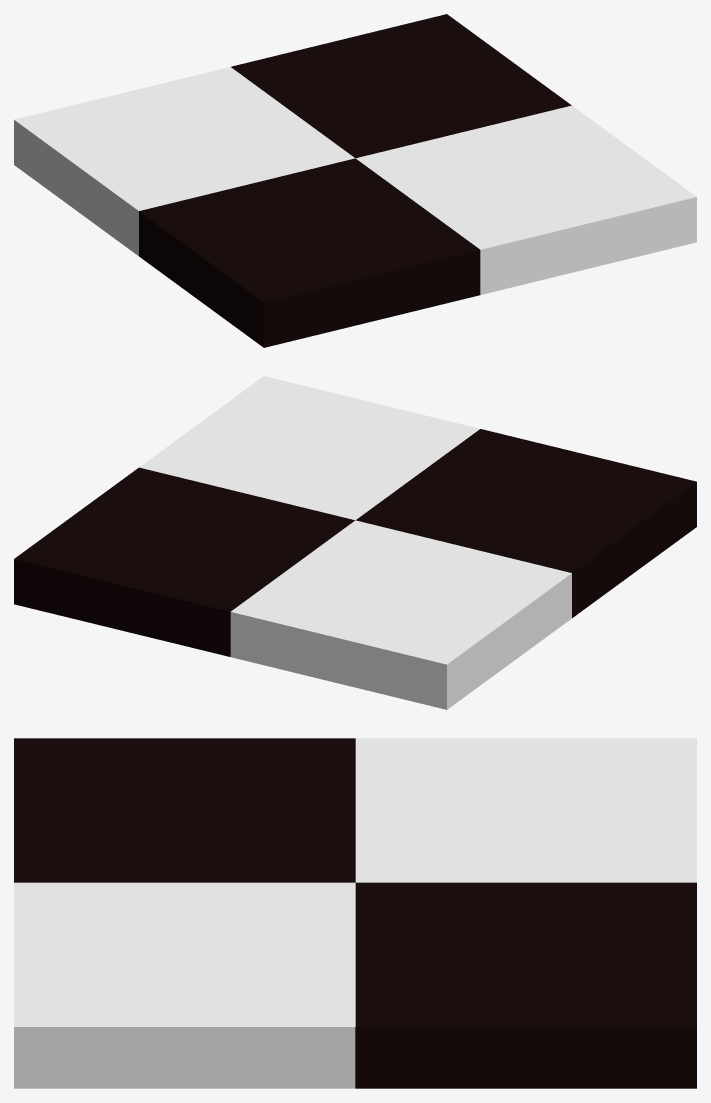
The model's file is Finish.obj.
The picture shows the model from 3 angles, top to bottom: view 1: azimuth 30°, elevation 25°; view 2: azimuth 150°, elevation 25°; view 3: azimuth 270°, elevation 25°; orthographic projection. The views are drawn at different scales.
Size of the model in its own units: 1 by 0.1 by 1.
1 material, 1 textured.
